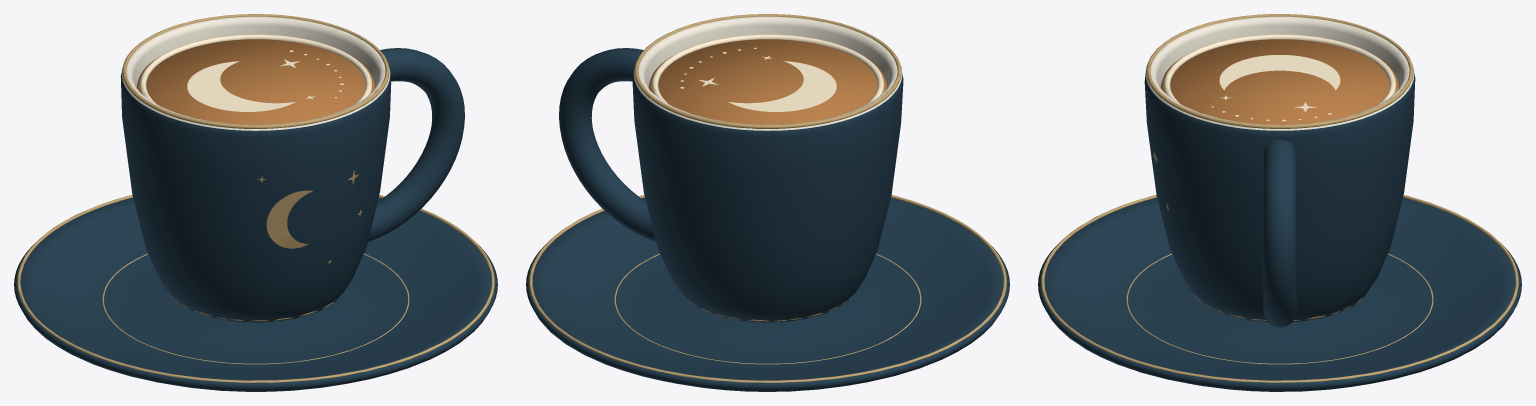
Rendered from moonlit-cappuccino.glb.
The picture shows the model from 3 angles, left to right: view 1: azimuth 30°, elevation 25°; view 2: azimuth 150°, elevation 25°; view 3: azimuth 270°, elevation 25°; orthographic projection.
Parts seen in each view (by area): view 1: Cup, Saucer, Drink; view 2: Cup, Saucer, Drink; view 3: Cup, Saucer, Drink.
Part boxes in pixels (x1,y1,x2,y2): Cup: (120,14,464,322); Saucer: (14,195,497,391); Drink: (136,34,375,124); Cup: (559,14,903,322); Saucer: (526,195,1009,391); Drink: (648,34,887,124); Cup: (1144,14,1415,327); Saucer: (1038,194,1521,391); Drink: (1160,34,1399,124).
Size of the model in its own units: 0.152 by 0.0845 by 0.152.
